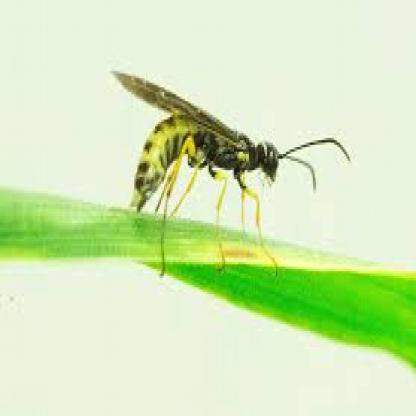sawfly: (112, 60, 354, 285)
